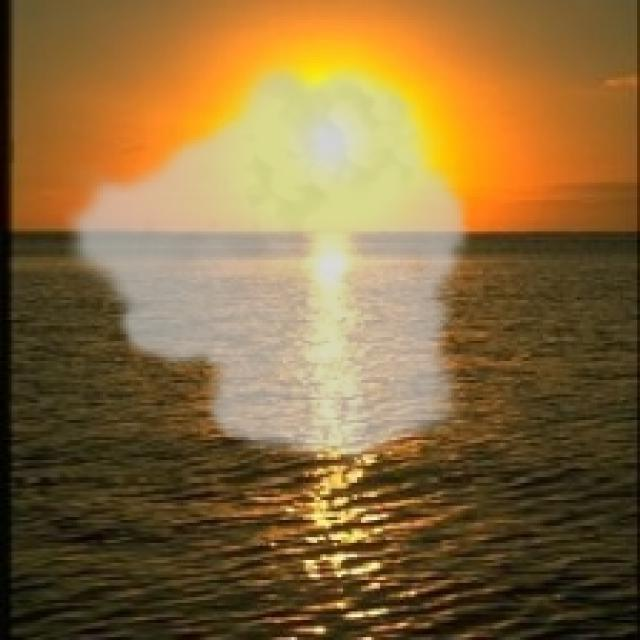Smoke: (57, 51, 474, 466)
